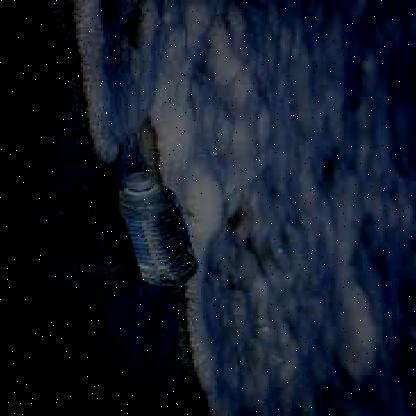Plastic Bottle: (118, 172, 196, 284)
